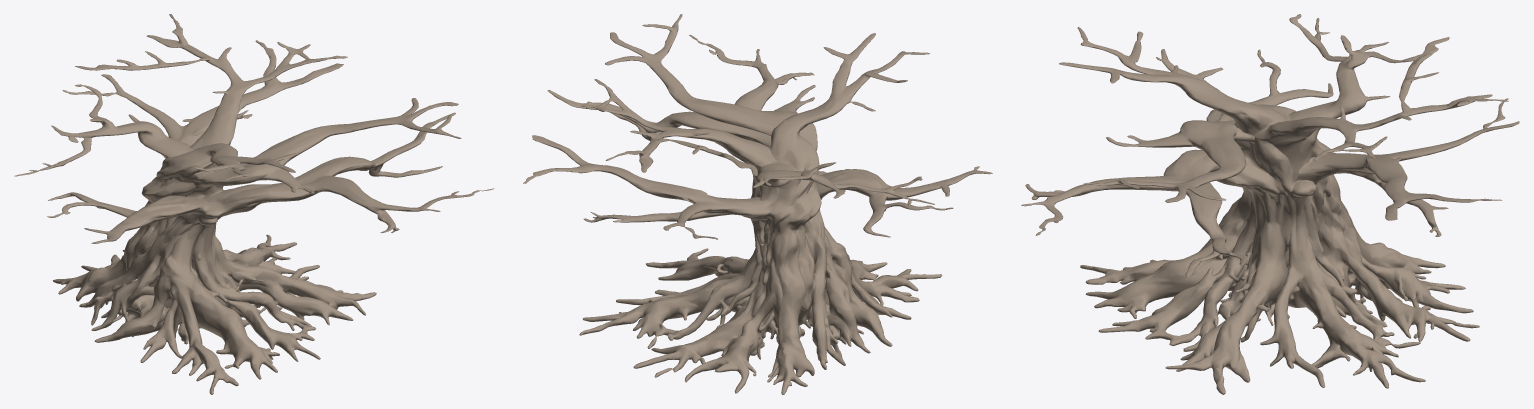
Rendered from ancient_tree.glb.
3 views of the same model, side by side, from view 1: azimuth 30°, elevation 25°; view 2: azimuth 150°, elevation 25°; view 3: azimuth 270°, elevation 25° (orthographic). The views are drawn at different scales.
Parts seen in each view (by area): view 1: ancient_tree; view 2: ancient_tree; view 3: ancient_tree.
Part boxes in pixels (left/top/right/bottom): ancient_tree: left=14, top=14, right=494, bottom=394; ancient_tree: left=523, top=14, right=992, bottom=394; ancient_tree: left=1021, top=14, right=1519, bottom=394.
Size of the model in its own units: 1.38 by 0.7029 by 1.25.
